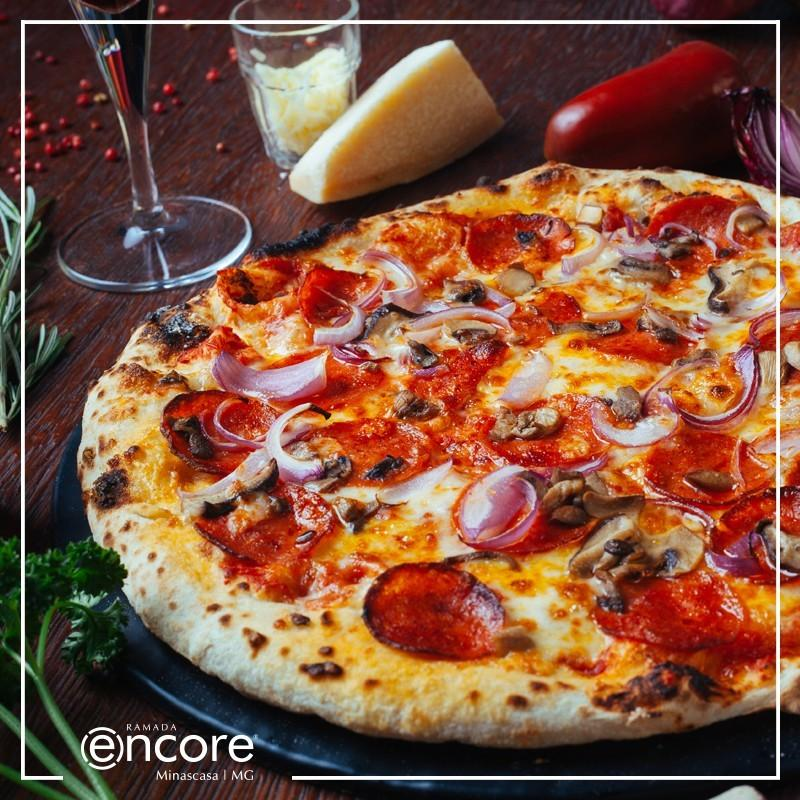Mushroom: (551, 483, 711, 620), (488, 401, 566, 445), (751, 515, 800, 578), (702, 260, 756, 310), (603, 253, 672, 289), (354, 447, 419, 484), (388, 383, 442, 424), (448, 316, 496, 354), (604, 379, 643, 425), (397, 339, 445, 374), (539, 317, 627, 336), (678, 466, 736, 494), (721, 204, 769, 237), (441, 274, 491, 305), (635, 318, 681, 345)
Onion: (448, 461, 553, 549), (661, 344, 764, 433), (196, 348, 337, 404), (260, 401, 336, 485), (173, 443, 278, 497), (578, 396, 684, 449), (618, 214, 723, 263), (637, 479, 718, 531), (401, 303, 521, 336), (707, 275, 791, 321), (359, 247, 423, 307), (209, 392, 273, 451), (705, 527, 768, 580), (306, 295, 367, 344), (745, 307, 800, 349), (565, 217, 601, 271)
Pepperoni: (357, 557, 513, 666), (188, 477, 339, 575), (590, 566, 746, 652), (148, 388, 287, 474), (288, 417, 451, 484), (634, 434, 785, 503), (710, 487, 800, 585), (460, 206, 580, 273), (396, 338, 507, 409), (571, 311, 708, 365), (290, 258, 393, 329), (642, 196, 746, 265), (255, 354, 387, 406), (510, 285, 581, 341), (751, 311, 800, 357)
Pizza: (74, 159, 800, 749)
